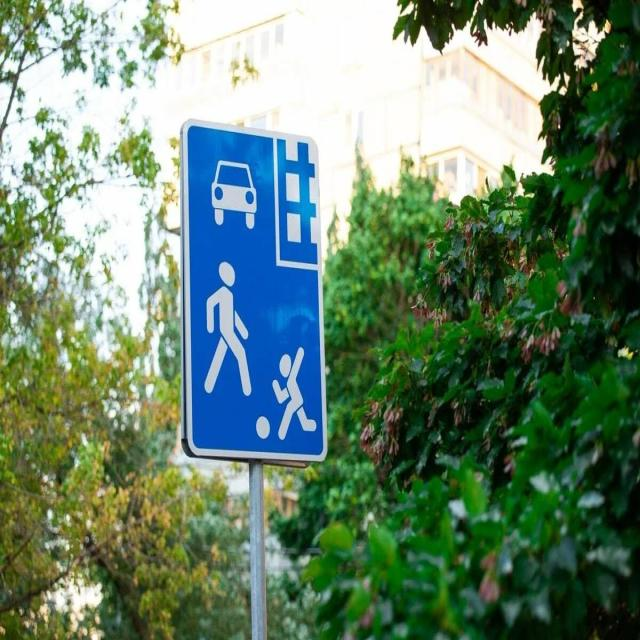Traffic sign: (180, 116, 327, 471)
